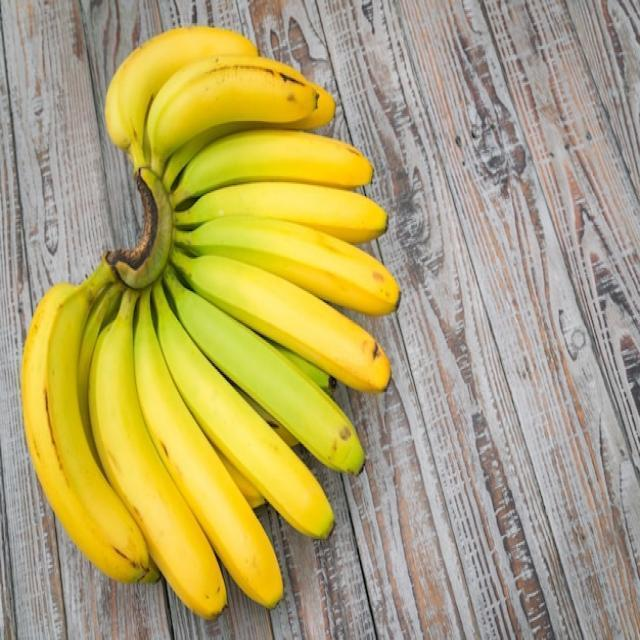Banana: (18, 19, 405, 632)
